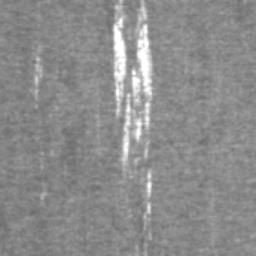White rust: (112, 0, 153, 166), (146, 170, 152, 198), (146, 202, 152, 214)
